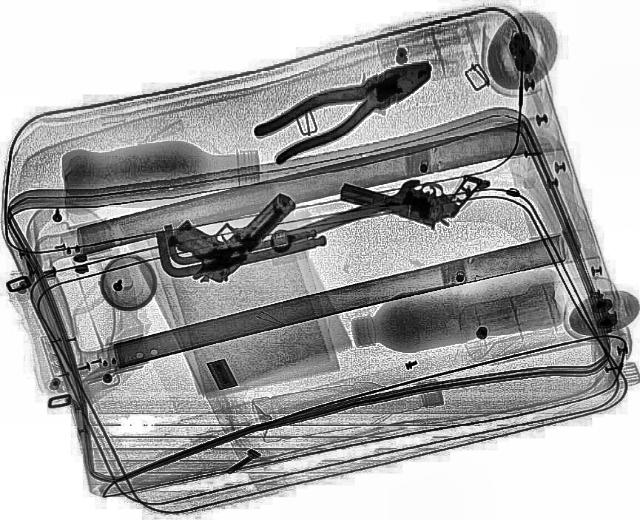Gun: (148, 166, 302, 292), (332, 143, 484, 237)
Pliers: (247, 46, 448, 166)
